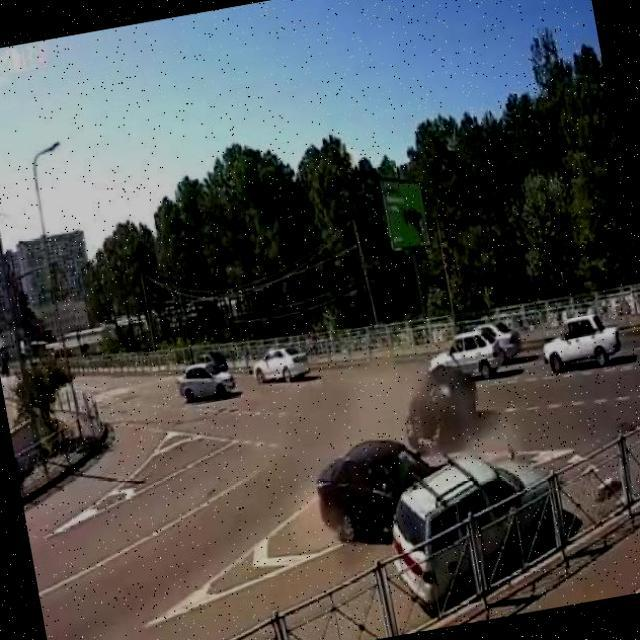accident: (363, 425, 497, 566)
